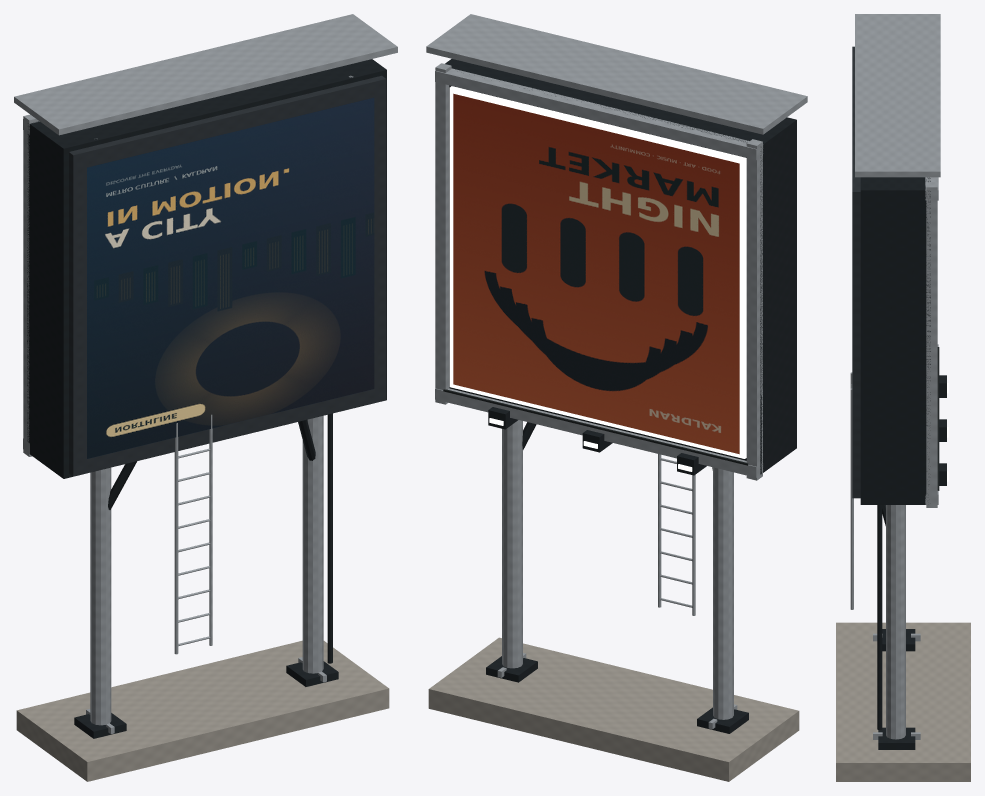
3 renders of one model, left to right at view 1: azimuth 30°, elevation 25°; view 2: azimuth 150°, elevation 25°; view 3: azimuth 270°, elevation 25°, orthographic. The views are drawn at different scales.
Parts seen in each view (by area): view 1: VIS_STATIC_Poster_Northline, VIS_STATIC_Brushed_Aluminium, VIS_STATIC_Concrete_Base, VIS_STATIC_Powder_Coat, VIS_STATIC_Anodized_Dark; view 2: VIS_STATIC_Poster_Nightmarket, VIS_STATIC_Brushed_Aluminium, VIS_STATIC_Concrete_Base, VIS_STATIC_Powder_Coat, VIS_STATIC_Light_Diffuser, VIS_STATIC_Rubber_Gasket; view 3: VIS_STATIC_Powder_Coat, VIS_STATIC_Brushed_Aluminium, VIS_STATIC_Concrete_Base, VIS_STATIC_Anodized_Dark, VIS_STATIC_Rubber_Gasket.
Part boxes in pixels (x1,y1,x2,y2): VIS_STATIC_Poster_Northline: [87, 97, 374, 458]; VIS_STATIC_Brushed_Aluminium: [14, 14, 397, 733]; VIS_STATIC_Concrete_Base: [16, 640, 389, 781]; VIS_STATIC_Powder_Coat: [27, 59, 386, 738]; VIS_STATIC_Anodized_Dark: [69, 75, 386, 476]; VIS_STATIC_Poster_Nightmarket: [453, 93, 739, 454]; VIS_STATIC_Brushed_Aluminium: [426, 14, 807, 729]; VIS_STATIC_Concrete_Base: [428, 637, 799, 781]; VIS_STATIC_Powder_Coat: [445, 59, 796, 733]; VIS_STATIC_Light_Diffuser: [449, 86, 746, 471]; VIS_STATIC_Rubber_Gasket: [443, 389, 748, 465]; VIS_STATIC_Powder_Coat: [860, 177, 946, 749]; VIS_STATIC_Brushed_Aluminium: [850, 14, 940, 739]; VIS_STATIC_Concrete_Base: [836, 622, 970, 781]; VIS_STATIC_Anodized_Dark: [852, 46, 860, 498]; VIS_STATIC_Rubber_Gasket: [937, 347, 939, 490].
Size of the model in its own units: 3.93 by 7.2 by 1.42.
8 materials, 8 textured.
